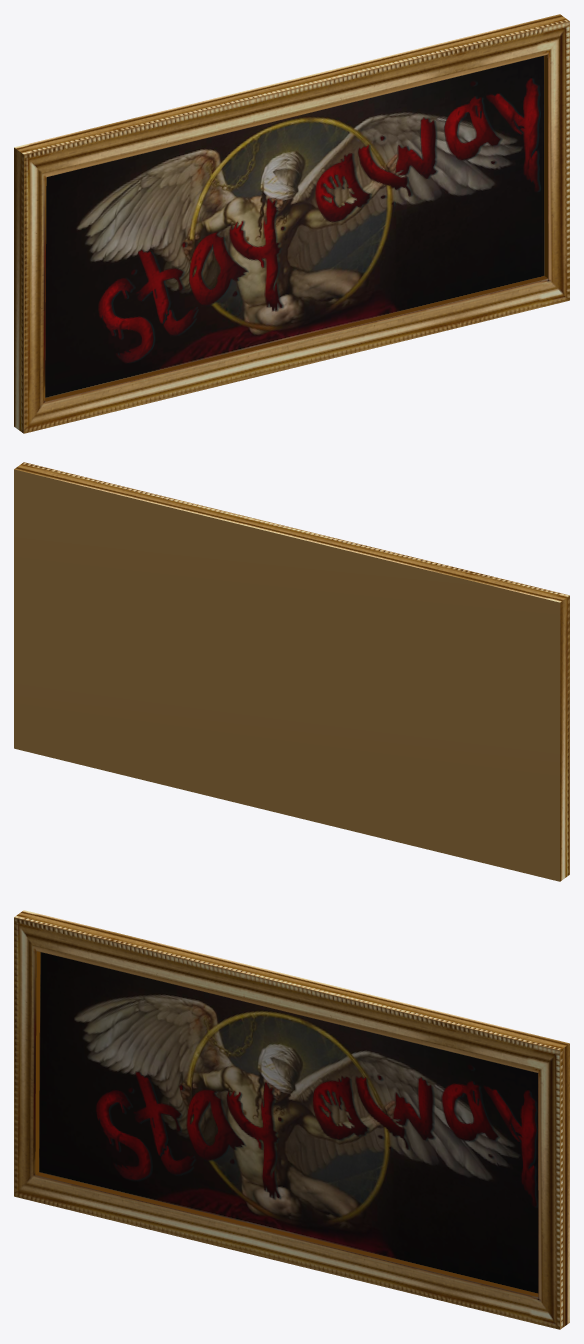
File: pic_2_1.fbx
3 views of the same model, one above another, from view 1: azimuth 30°, elevation 25°; view 2: azimuth 150°, elevation 25°; view 3: azimuth 330°, elevation 25° (orthographic).
Parts seen in each view (by area): view 1: Cube; view 2: Cube; view 3: Cube.
Part boxes in pixels (x1,y1,x2,y2): Cube: (14,14,569,433); Cube: (14,462,569,881); Cube: (14,910,569,1329).
Size of the model in its own units: 296 by 144 by 9.28.
